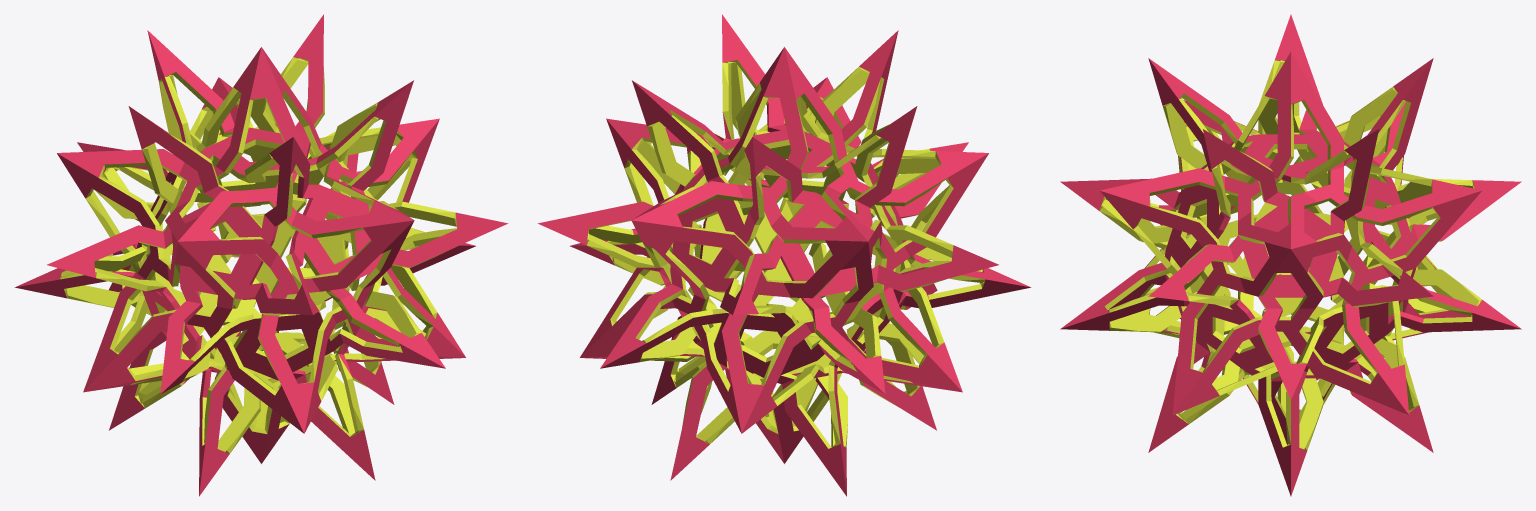
File: StarPolyknotIcosidodecahedron1.glb
3 renders of one model, left to right at view 1: azimuth 30°, elevation 25°; view 2: azimuth 150°, elevation 25°; view 3: azimuth 270°, elevation 25°, orthographic. The views are drawn at different scales.
Parts seen in each view (by area): view 1: ESCHER_BBBa_A8; view 2: ESCHER_BBBa_A8; view 3: ESCHER_BBBa_A8.
Boxes of the visible parts, box(x1,y1,x2,y2) form: ESCHER_BBBa_A8: box(14, 14, 508, 496); ESCHER_BBBa_A8: box(537, 14, 1031, 496); ESCHER_BBBa_A8: box(1060, 14, 1521, 496).
Bounding box in the file's own units: 162 × 150 × 154.
